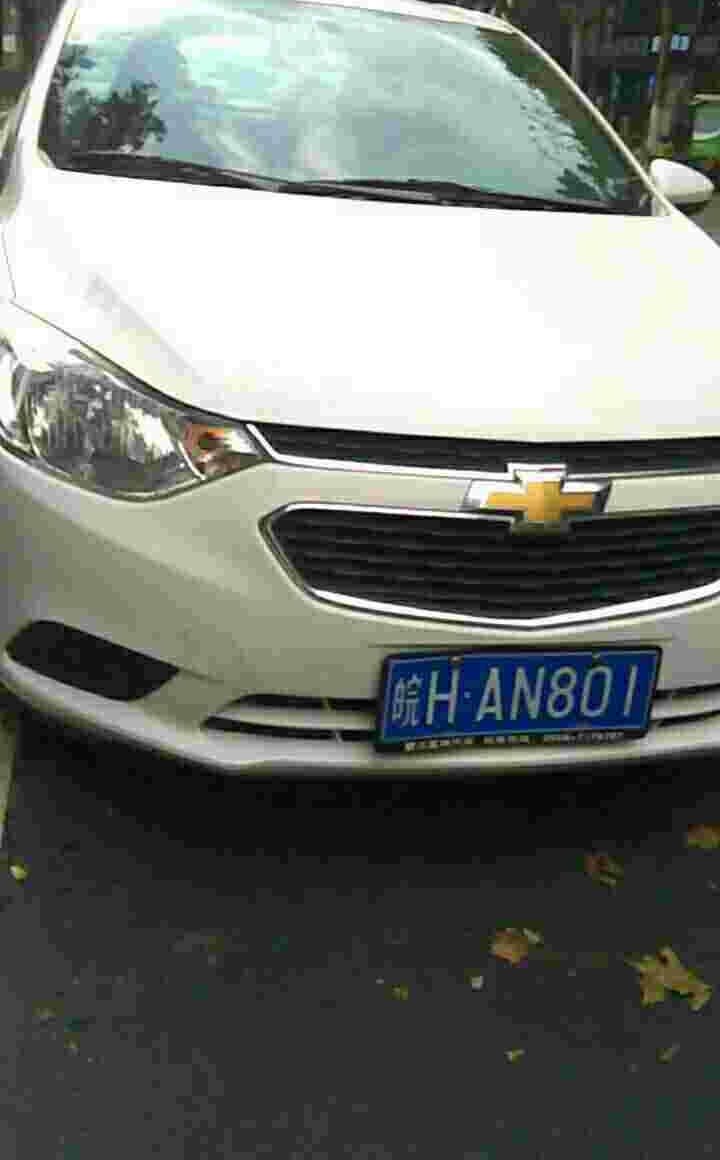license_plate: (380, 651, 666, 745)
